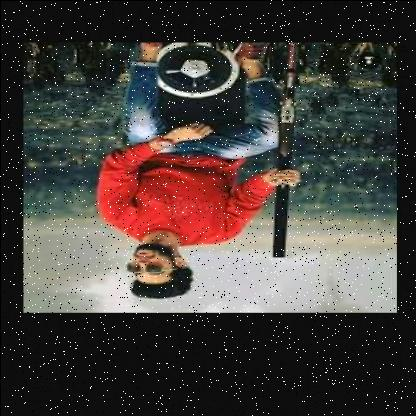rifle: (268, 41, 304, 259)
